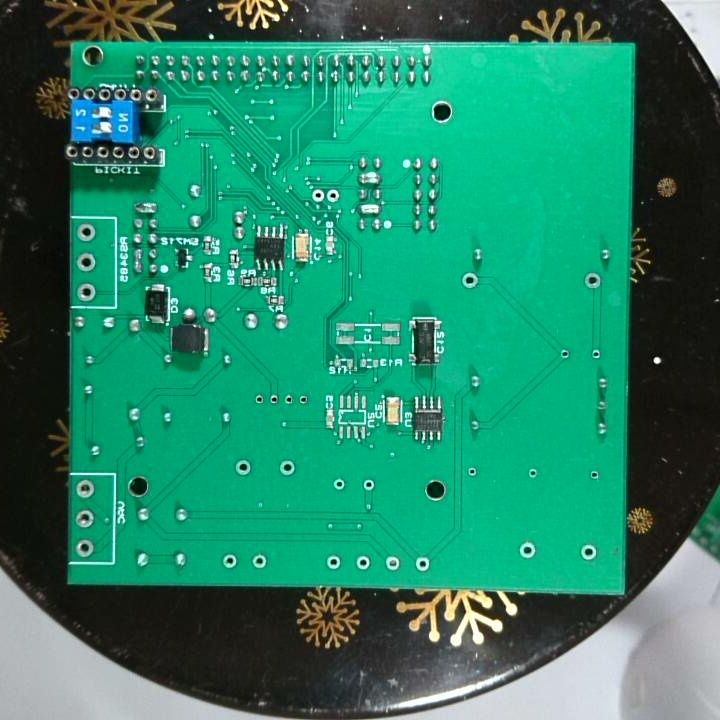F: (75, 250, 99, 275), (76, 221, 99, 246), (74, 477, 96, 501), (73, 535, 95, 559), (583, 269, 605, 293), (517, 538, 538, 563), (75, 280, 97, 303), (73, 506, 95, 529), (322, 552, 345, 574), (577, 540, 598, 563), (382, 553, 403, 575), (413, 554, 434, 575), (459, 270, 480, 291), (248, 551, 269, 571), (233, 457, 253, 478), (277, 458, 296, 478), (359, 475, 377, 496), (220, 551, 240, 569), (525, 464, 542, 485), (265, 390, 282, 409), (354, 552, 370, 572), (296, 389, 311, 410), (325, 186, 342, 204), (308, 186, 326, 203), (556, 346, 573, 363), (251, 391, 268, 408), (330, 476, 346, 494), (587, 466, 602, 485), (588, 346, 604, 363), (282, 390, 296, 409), (465, 463, 479, 481)
P: (130, 198, 162, 216), (354, 169, 385, 186), (131, 246, 146, 275), (357, 202, 385, 216)
